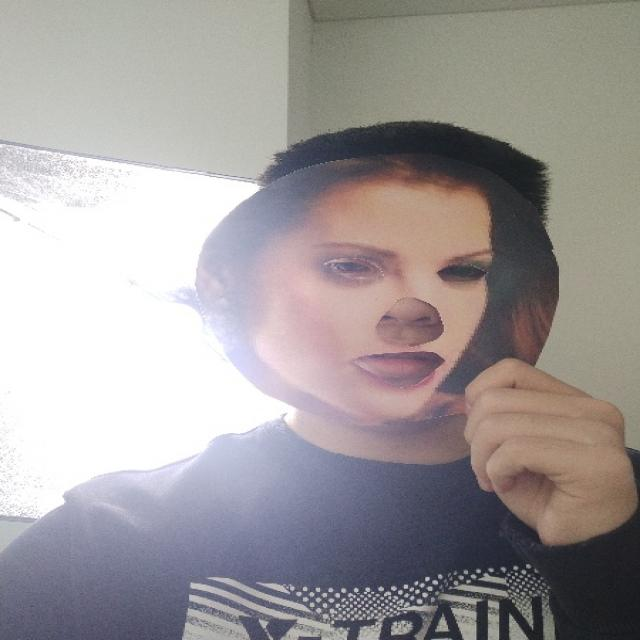mask: (188, 149, 567, 428)
